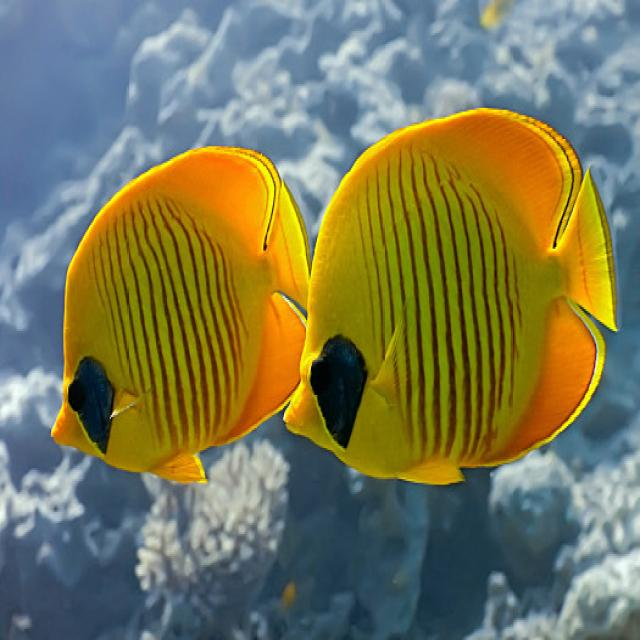ButterflyFish: (284, 114, 620, 498), (50, 150, 306, 487)
